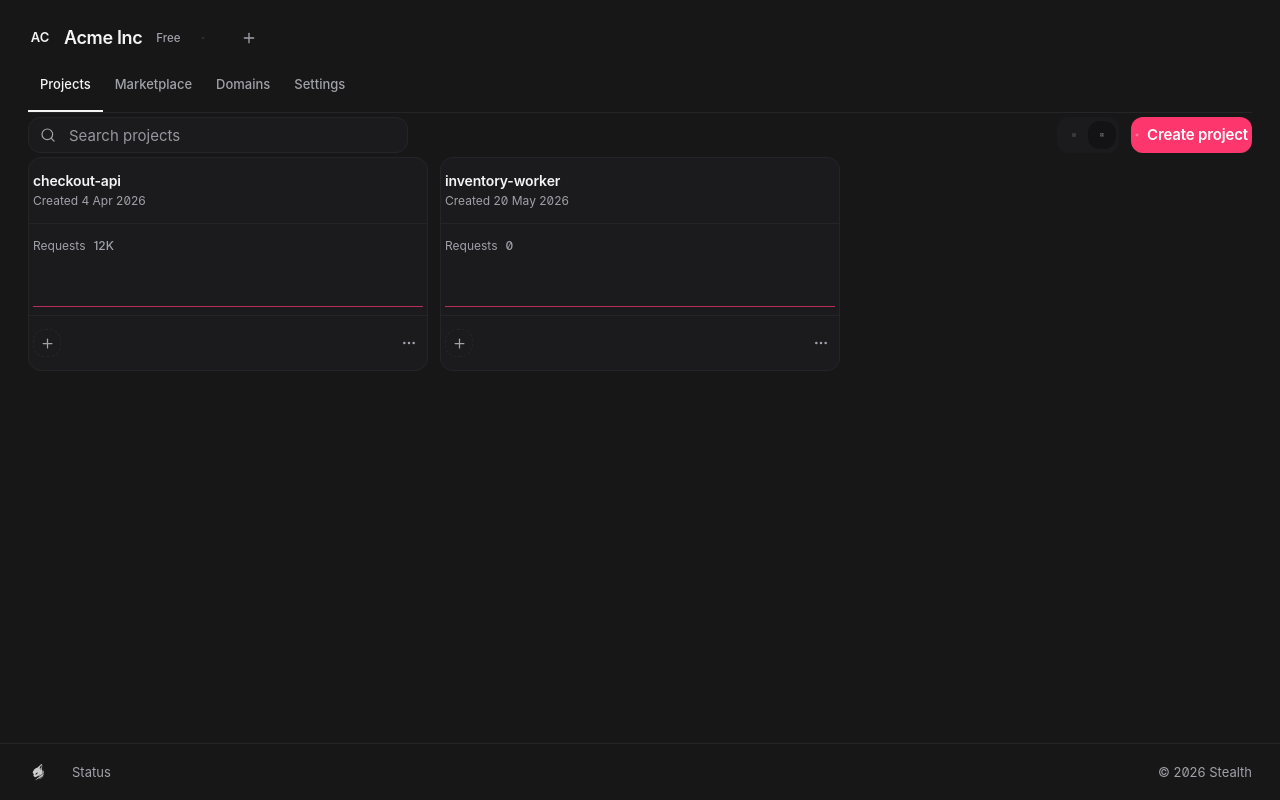
UserHome › shows the card grid by default and switches to the table box
Check: the heading "checkout-api" is shown, box [33,172,121,188]
Check: the text "Requests" is shown 2 times, box [33,236,86,256]; [445,236,498,256]
What coordinates should you click on to do the following:
click the button named "List view"
I would click on:
 (1074, 135)
Its box is [1060,121,1088,149].
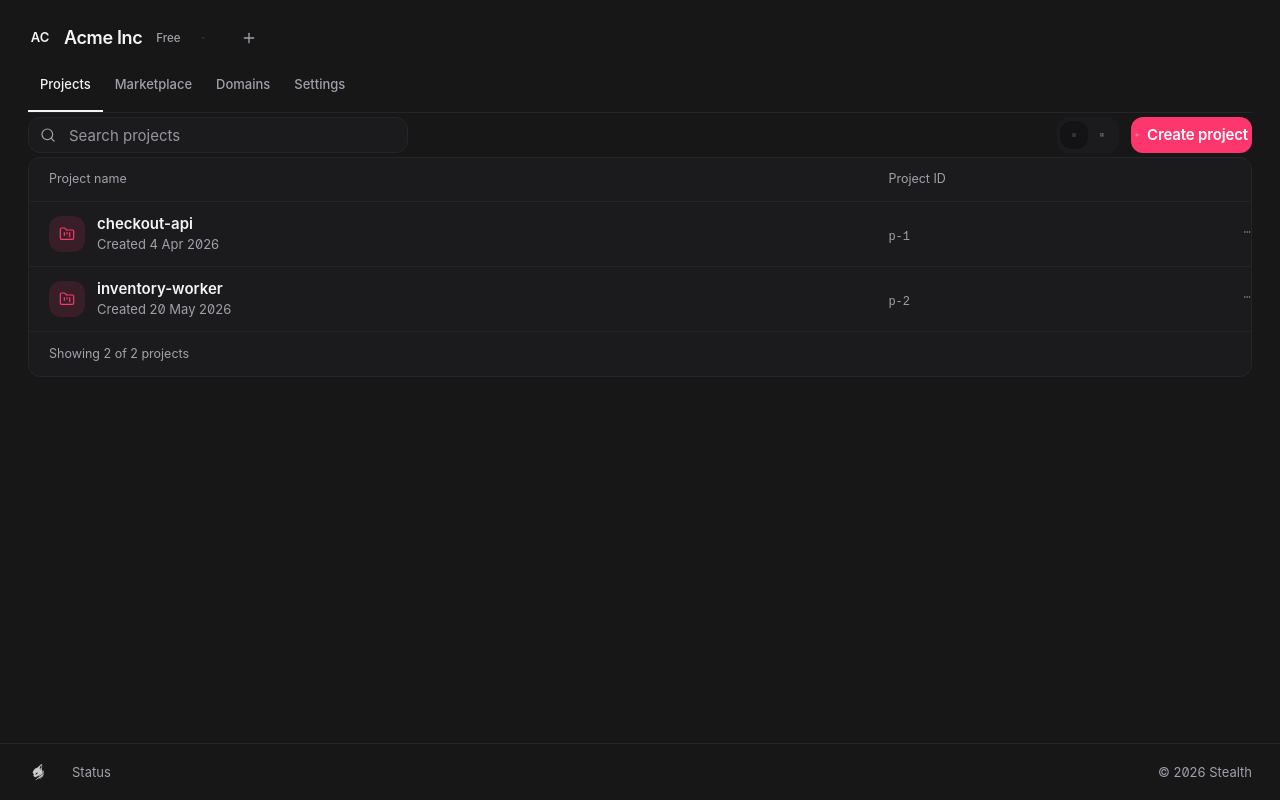
Check: the link "checkout-api" is shown, box [97,214,193,233]
Check: the text "Showing 2 of 2 projects" is shown, box [29,331,1251,376]
Check: the text "Requests" is gone
